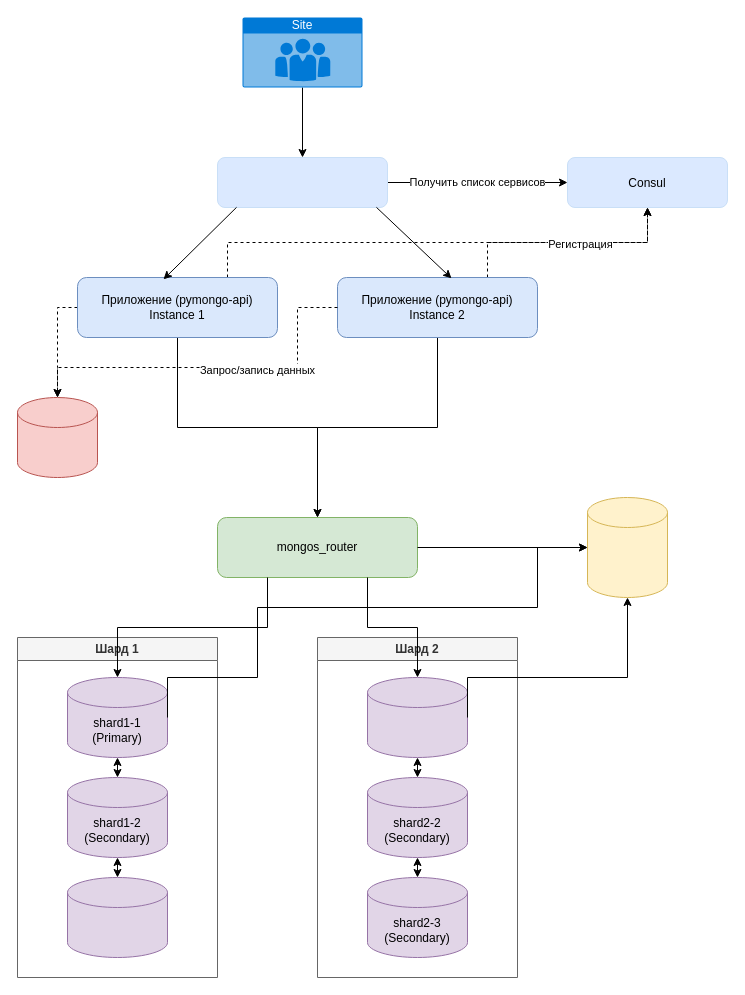
The diagram is 745 pixels wide and 995 high, and some of its shapes have lost their labels. The shapes that lost their labels are listed below. From the top down, each one's centre as x and y in pixels, then its label:
the point at 302,182: API Gateway (APISIX)
the point at 57,437: redis
the point at 627,547: configSrv
the point at 417,717: shard2-1 (Primary)
the point at 117,917: shard1-3 (Secondary)
